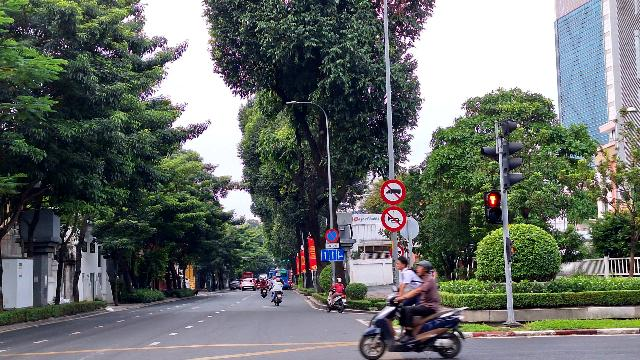cam-bop-coi: (381, 206, 407, 232)
cam-do-xe: (325, 229, 339, 242)
